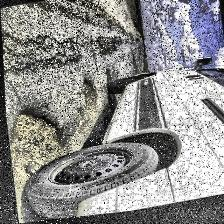pothole: (5, 103, 65, 189), (78, 79, 98, 107)
